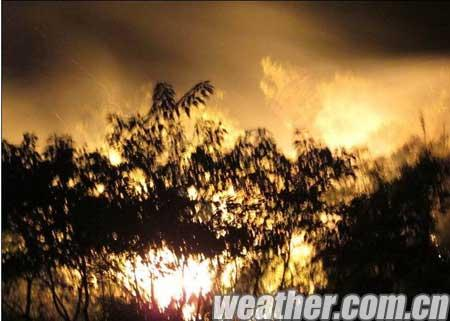fire: (263, 67, 409, 152), (48, 101, 156, 167), (121, 253, 215, 306)
smoke: (23, 4, 262, 99), (267, 8, 380, 67)
